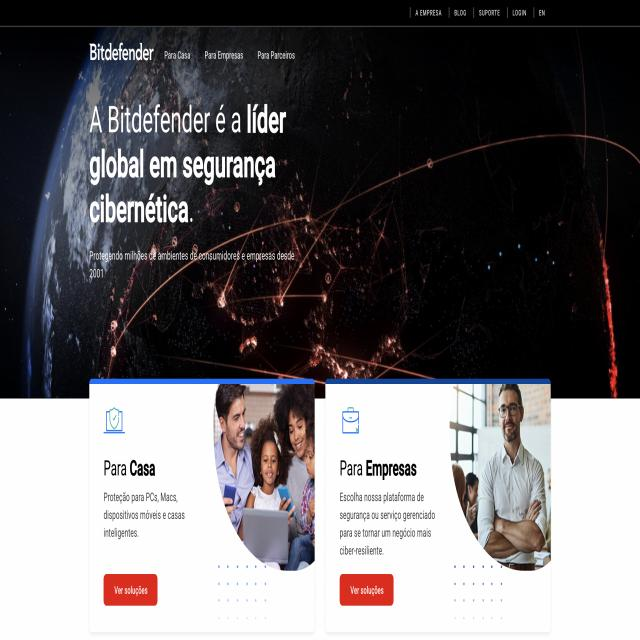Logo: (84, 33, 157, 72)
Navigation: (159, 42, 305, 70)
